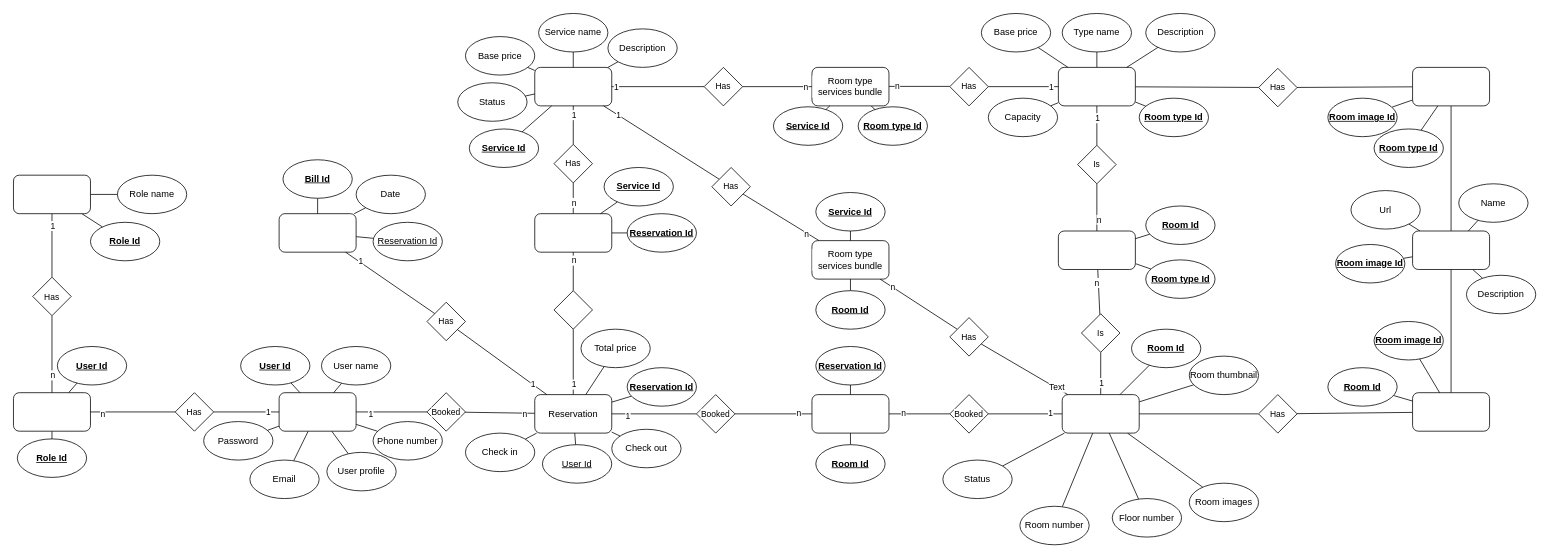
Image size: 1549x558. Some labels were removed from this diagram. The shapes that lost their labels are listed below. From the top down, each one's centre as x and y in pixels, then its label:
At point (573, 86): "Services".
At point (1096, 86): "Room Type".
At point (1451, 86): "Room type -image".
At point (51, 194): "Role".
At point (317, 232): "Bill".
At point (573, 232): "Reservation service".
At point (1096, 250): "Room RoomType".
At point (1451, 250): "Room image".
At point (573, 309): "pick additional".
At point (51, 411): "UserRole".
At point (317, 411): "User".
At point (850, 413): "Reservation Room".
At point (1100, 413): "Room".
At point (1451, 411): "Room - image".
